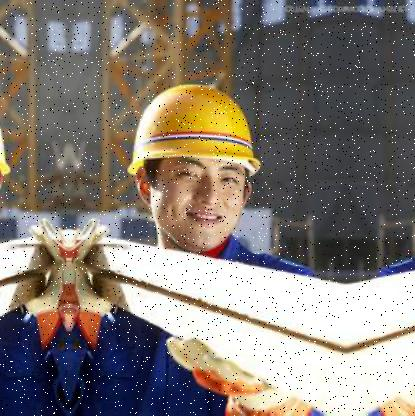helmet: (108, 67, 277, 261)
